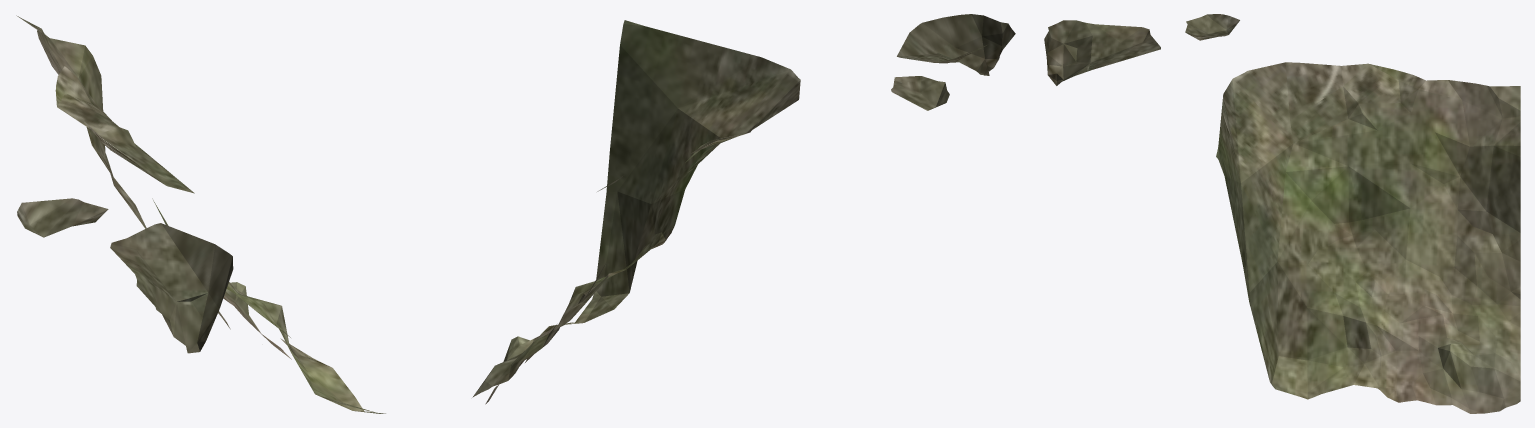
3 views of the same model, side by side, from view 1: azimuth 30°, elevation 25°; view 2: azimuth 150°, elevation 25°; view 3: azimuth 270°, elevation 25° (orthographic). The views are drawn at different scales.
Size of the model in its own units: 1.93 by 1.62 by 2.72.
Materials: 1 (1 with a texture image).
